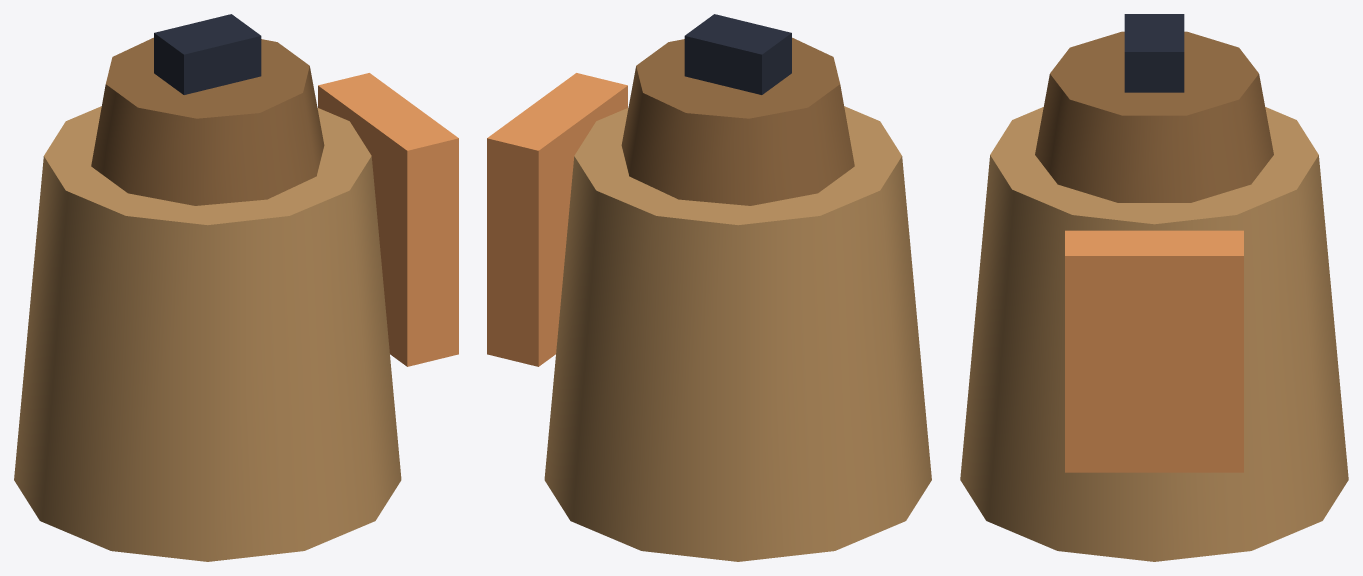
File: kettle.glb
The picture shows the model from 3 angles, left to right: view 1: azimuth 30°, elevation 25°; view 2: azimuth 150°, elevation 25°; view 3: azimuth 270°, elevation 25°; orthographic projection.
Visible parts, largest first — view 1: kettle; view 2: kettle; view 3: kettle.
Part boxes in pixels (box(x1,y1,x2,y2)): kettle: box(14, 14, 458, 561); kettle: box(487, 14, 931, 561); kettle: box(960, 14, 1348, 561).
Size of the model in its own units: 14.5 by 16.5 by 13.
